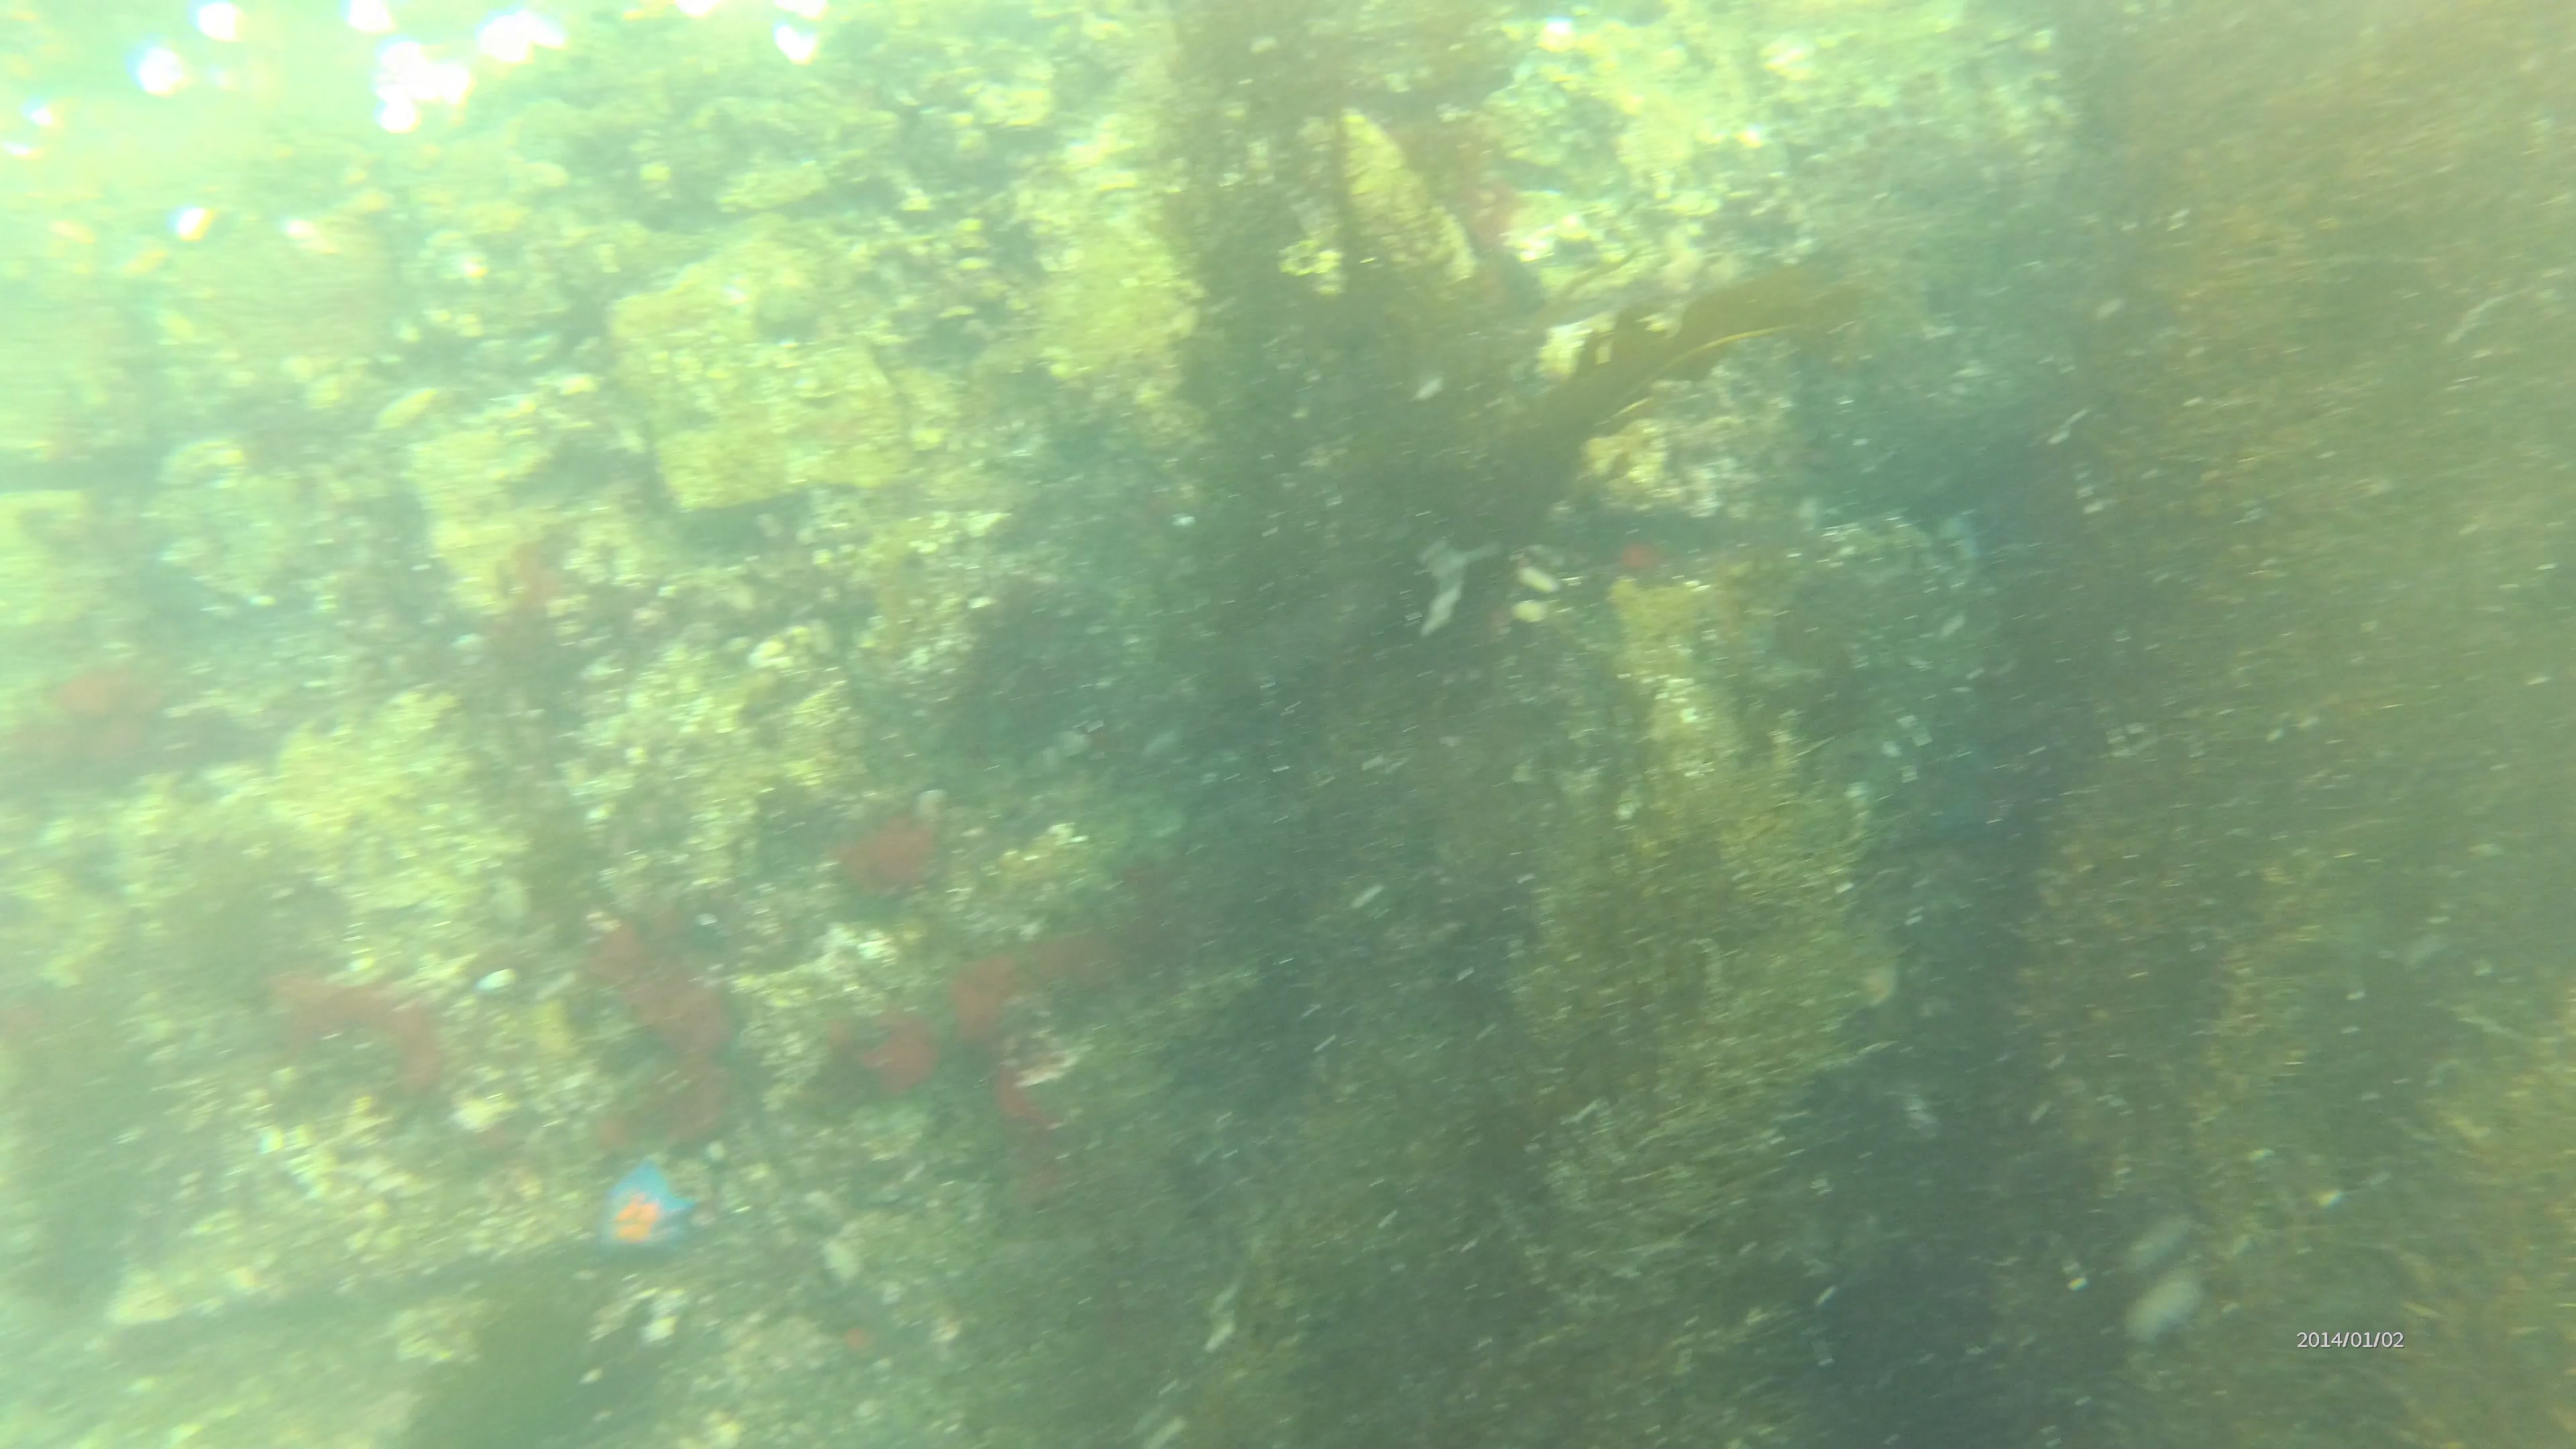starfish: (586, 1154, 694, 1263)
